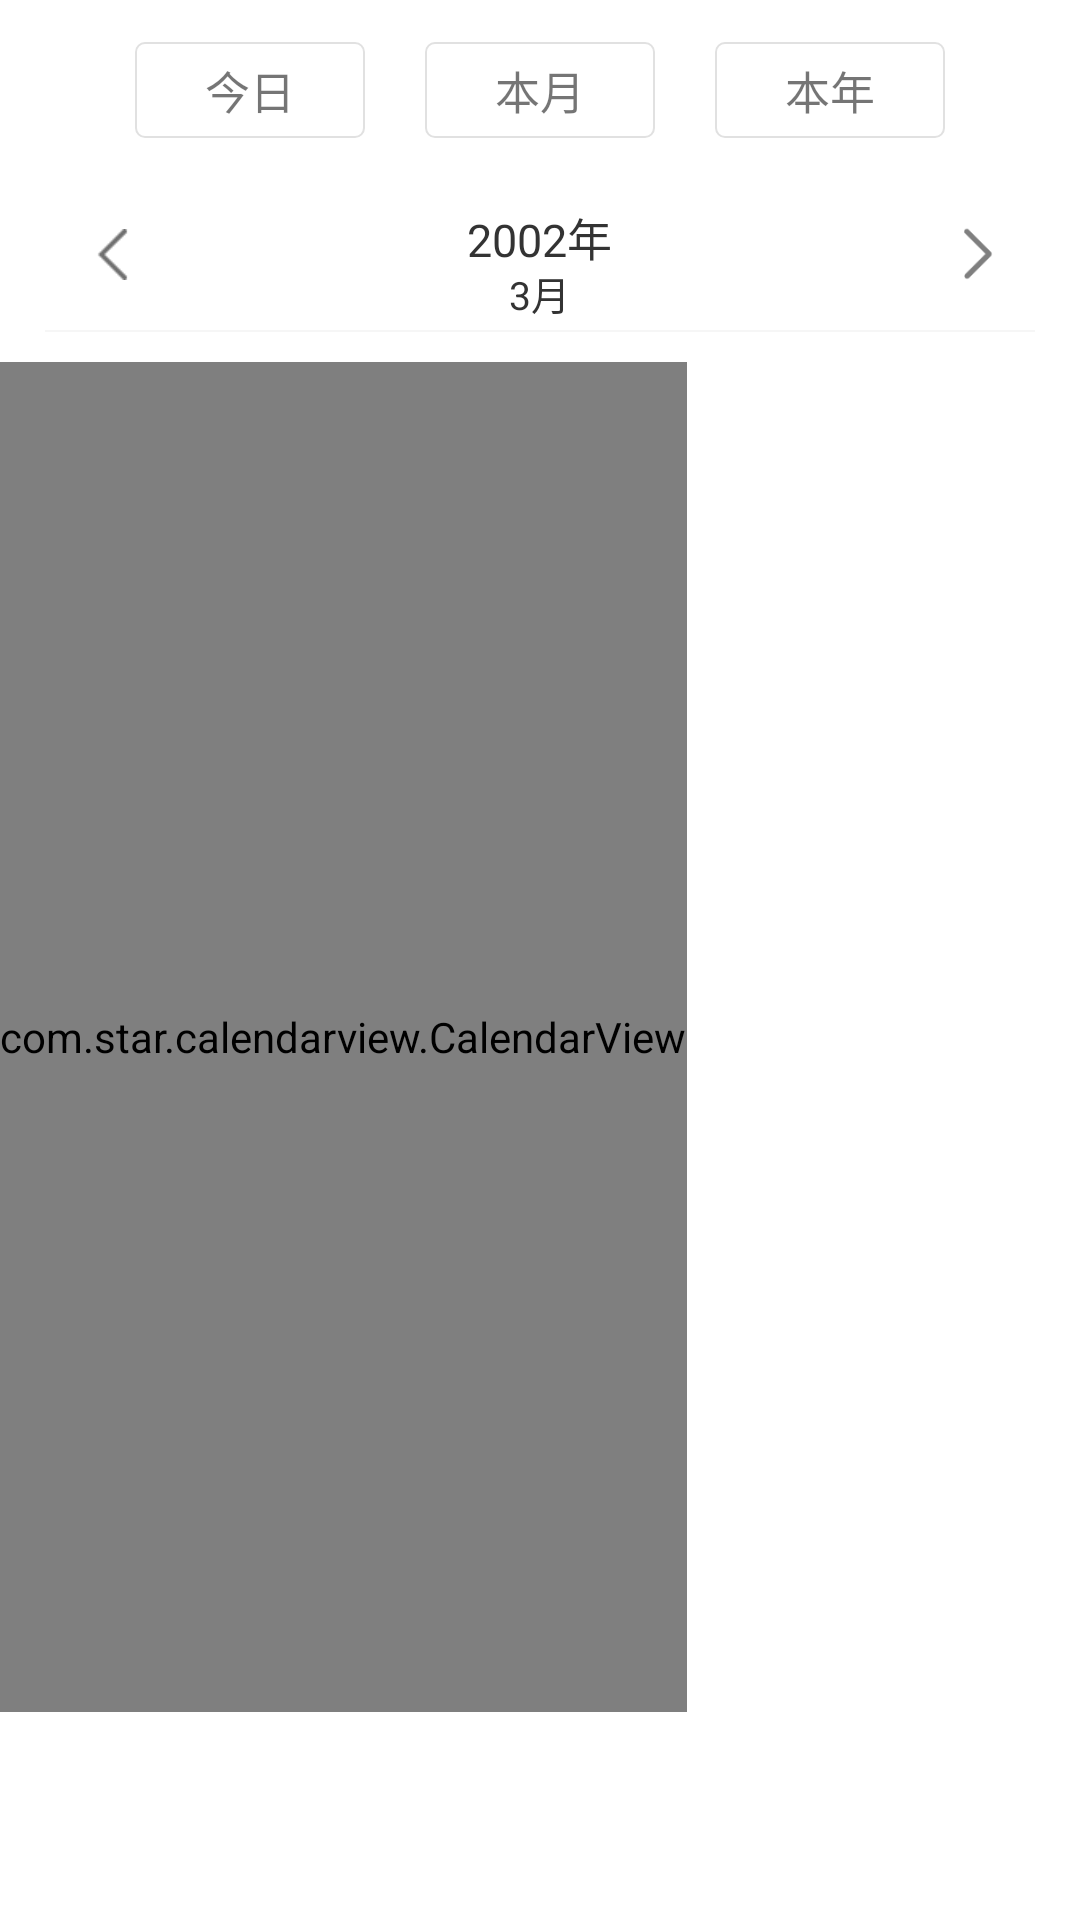

Locate icon controls on the screen. Image size 1080 × 1920, boxes as (x1, y1, x2, y2).
widget left: (98, 229, 127, 280)
widget right: (964, 229, 992, 279)
